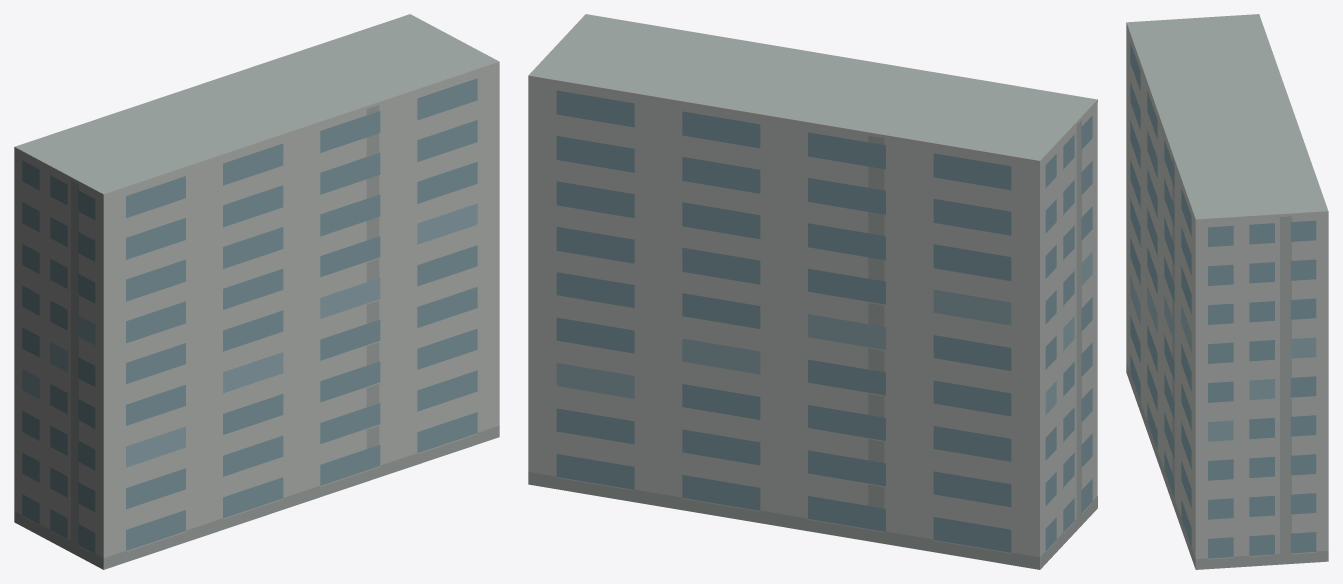
The model's file is residential-9bb41657-f13c-4e93-a6da-2350f966ddc0.glb.
3 renders of one model, left to right at view 1: azimuth 30°, elevation 25°; view 2: azimuth 150°, elevation 25°; view 3: azimuth 270°, elevation 25°, orthographic. The views are drawn at different scales.
Visible parts, largest first — view 1: residential-9bb41657-f13c-4e93-a6da-2350f966ddc0.tmp; view 2: residential-9bb41657-f13c-4e93-a6da-2350f966ddc0.tmp; view 3: residential-9bb41657-f13c-4e93-a6da-2350f966ddc0.tmp.
Part boxes in pixels (box(x1,y1,x2,y2)): residential-9bb41657-f13c-4e93-a6da-2350f966ddc0.tmp: box(14, 14, 499, 569); residential-9bb41657-f13c-4e93-a6da-2350f966ddc0.tmp: box(528, 14, 1097, 569); residential-9bb41657-f13c-4e93-a6da-2350f966ddc0.tmp: box(1126, 14, 1328, 569).
Bounding box in the file's own units: 39 × 31 × 16.21.
